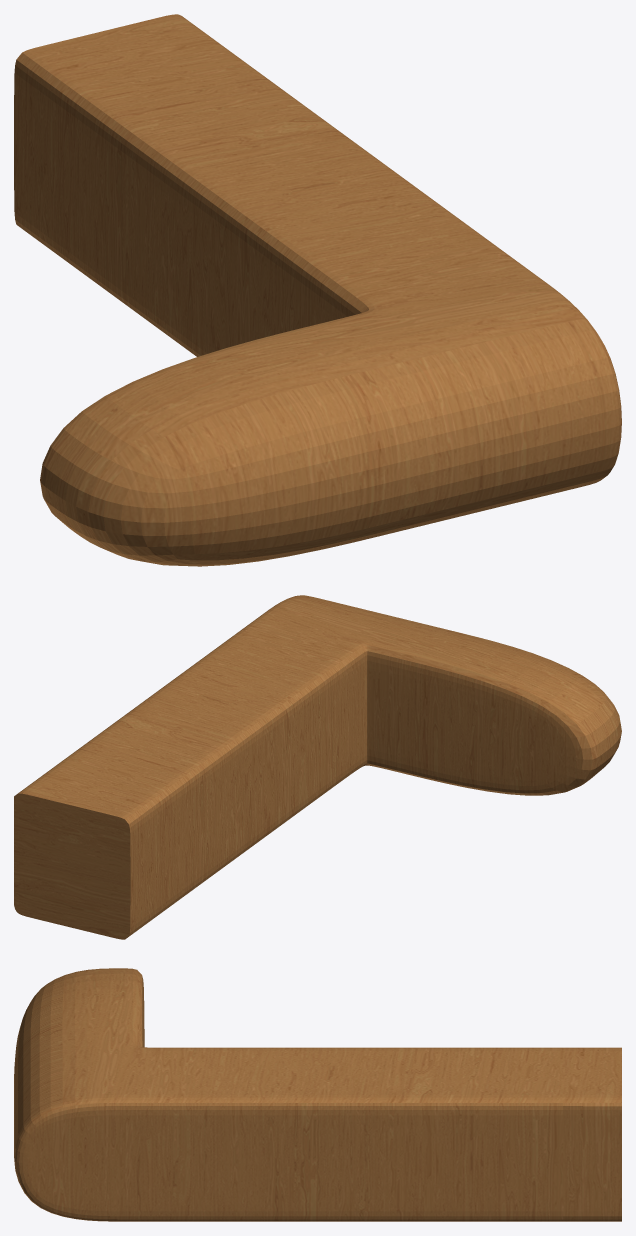
The model's file is support.glb.
3 views of the same model, one above another, from view 1: azimuth 30°, elevation 25°; view 2: azimuth 150°, elevation 25°; view 3: azimuth 270°, elevation 25° (orthographic). The views are drawn at different scales.
Visible parts, largest first — view 1: Cube; view 2: Cube; view 3: Cube.
Part boxes in pixels (x1,y1,x2,y2): Cube: (14, 14, 621, 566); Cube: (14, 595, 621, 939); Cube: (14, 968, 621, 1221).
Size of the model in its own units: 2.92 by 1 by 4.46.
1 material, 1 textured.
